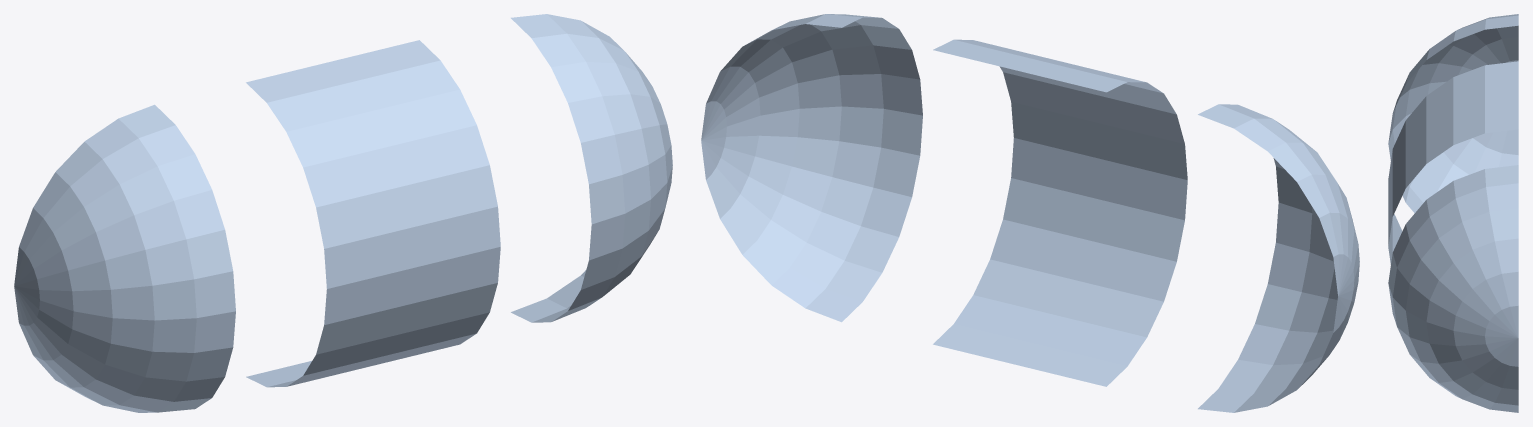
Rendered from hebel2_verkleidung.obj.
3 renders of one model, left to right at view 1: azimuth 30°, elevation 25°; view 2: azimuth 150°, elevation 25°; view 3: azimuth 270°, elevation 25°, orthographic. The views are drawn at different scales.
Visible parts, largest first — view 1: hebel2_verkleidung; view 2: hebel2_verkleidung; view 3: hebel2_verkleidung.
Part boxes in pixels (x1,y1,x2,y2): hebel2_verkleidung: (14,14,672,412); hebel2_verkleidung: (701,14,1359,412); hebel2_verkleidung: (1388,14,1518,412).
Bounding box in the file's own units: 0.249 × 0.11 × 0.055.
